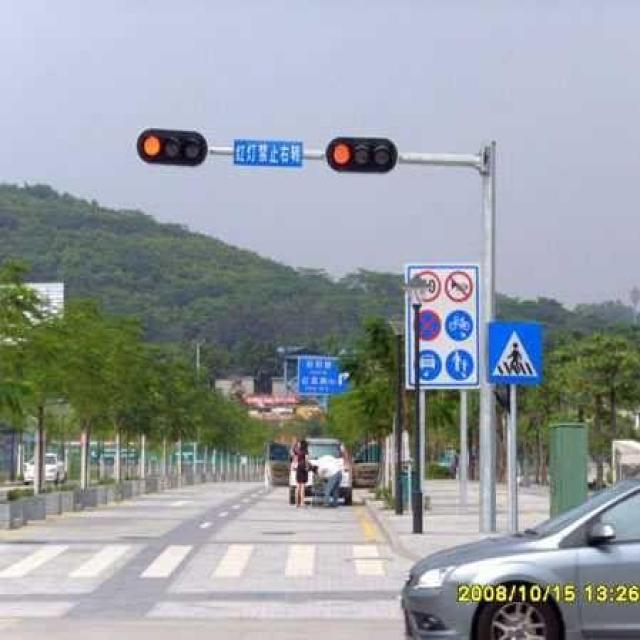Traffic Light -Red-: (134, 126, 210, 172), (324, 136, 399, 178)
